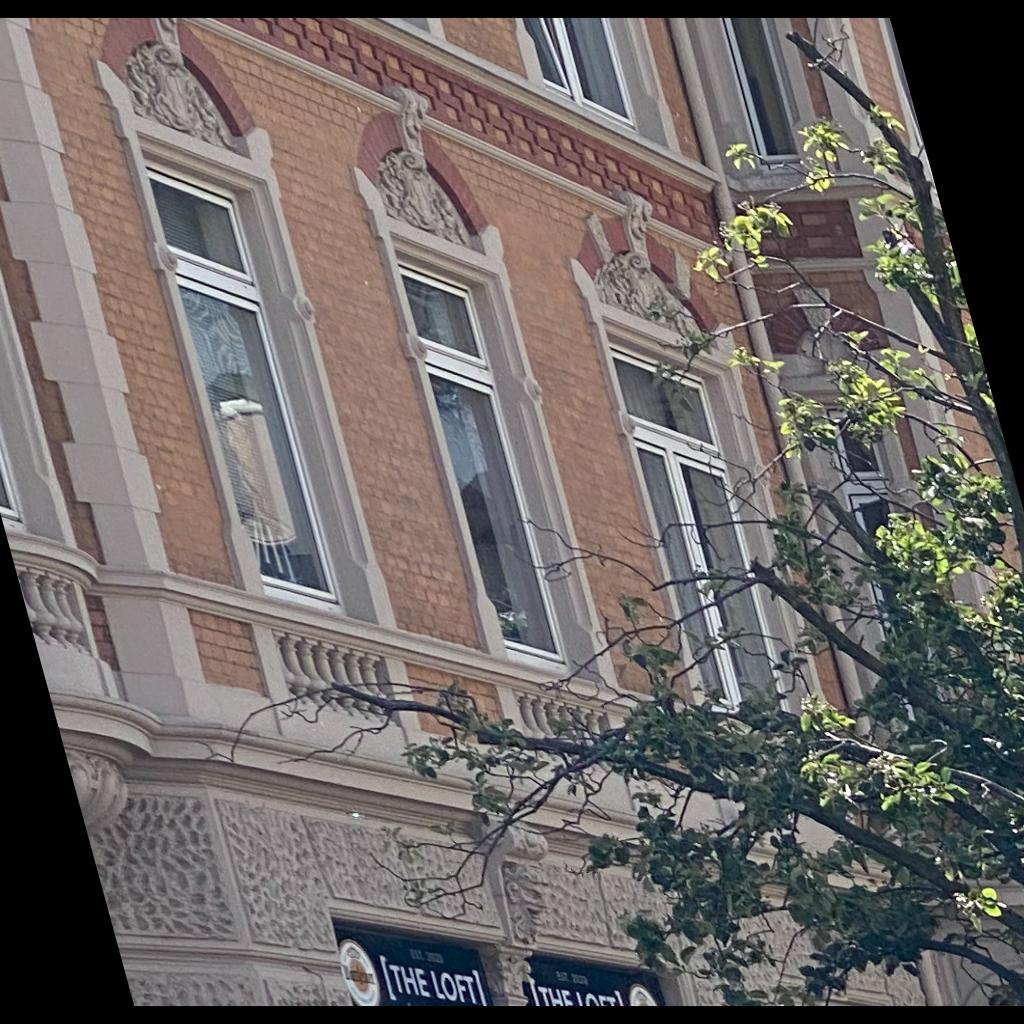tree: (189, 17, 1023, 1006)
